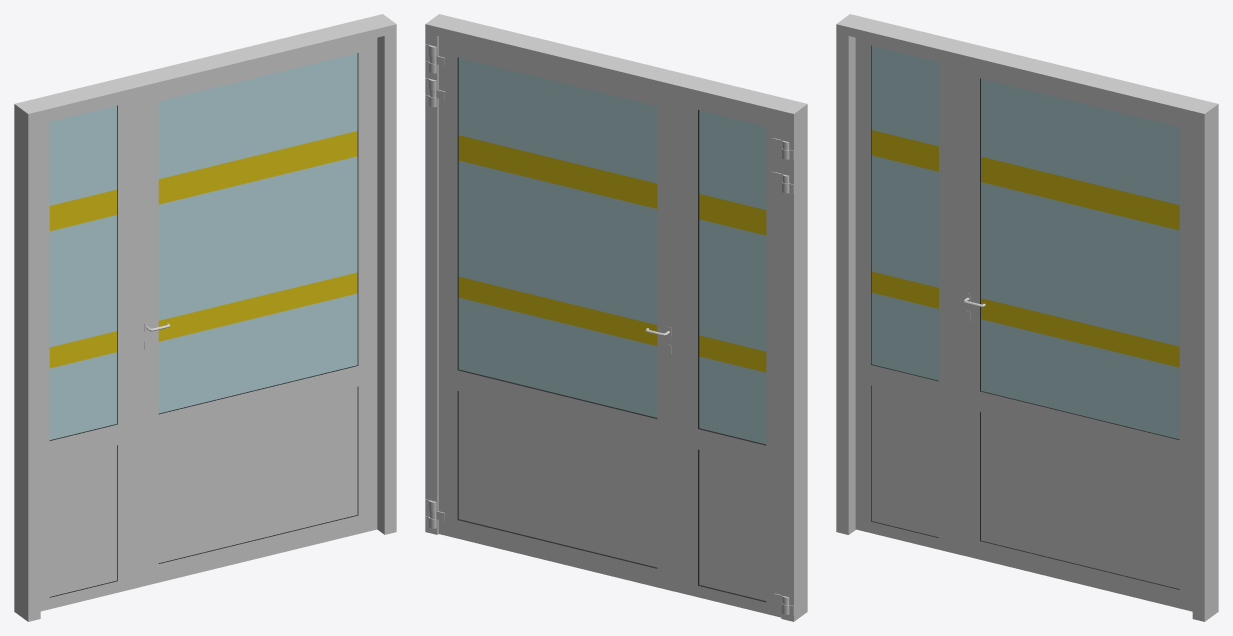
Rendered from White Doors.fbx.
The picture shows the model from 3 angles, left to right: view 1: azimuth 30°, elevation 25°; view 2: azimuth 150°, elevation 25°; view 3: azimuth 330°, elevation 25°; orthographic projection.
Parts seen in each view (by area): view 1: DoorWing0L.001, DoorWing0P.003, DoorFrame0.003; view 2: DoorWing0L.001, DoorWing0P.003, DoorFrame0.003; view 3: DoorWing0L.001, DoorWing0P.003, DoorFrame0.003.
Boxes of the visible parts, x1,y1,x2,y2 form: DoorWing0L.001: (141,38,377,586); DoorWing0P.003: (40,95,140,611); DoorFrame0.003: (14,14,396,621); DoorWing0L.001: (430,36,675,591); DoorWing0P.003: (675,94,789,617); DoorFrame0.003: (425,14,807,621); DoorWing0L.001: (962,63,1192,611); DoorWing0P.003: (855,38,962,555); DoorFrame0.003: (836,14,1218,621).
Size of the model in its own units: 155 by 204 by 13.41.
